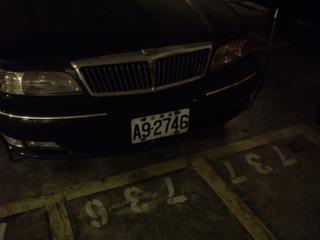plate: (129, 103, 190, 145)
